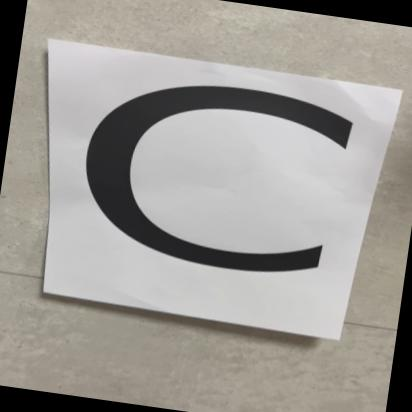seat: (16, 27, 398, 336)
